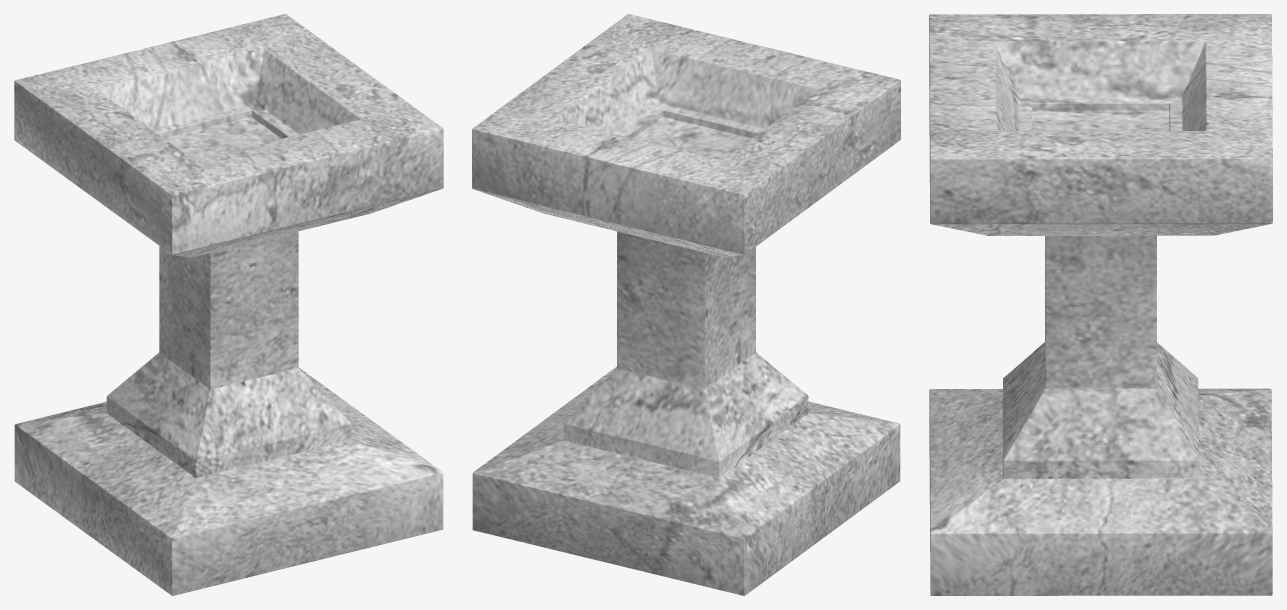
Rendered from kauss_01.glb.
The picture shows the model from 3 angles, left to right: view 1: azimuth 30°, elevation 25°; view 2: azimuth 150°, elevation 25°; view 3: azimuth 270°, elevation 25°; orthographic projection. The views are drawn at different scales.
Visible parts, largest first — view 1: AMisjObj; view 2: AMisjObj; view 3: AMisjObj.
Boxes of the visible parts, left/top/right/bottom form: AMisjObj: left=14, top=14, right=443, bottom=595; AMisjObj: left=472, top=14, right=900, bottom=595; AMisjObj: left=929, top=14, right=1272, bottom=595.
Bounding box in the file's own units: 1.4 × 1.96 × 1.4.
1 material, 1 textured.
